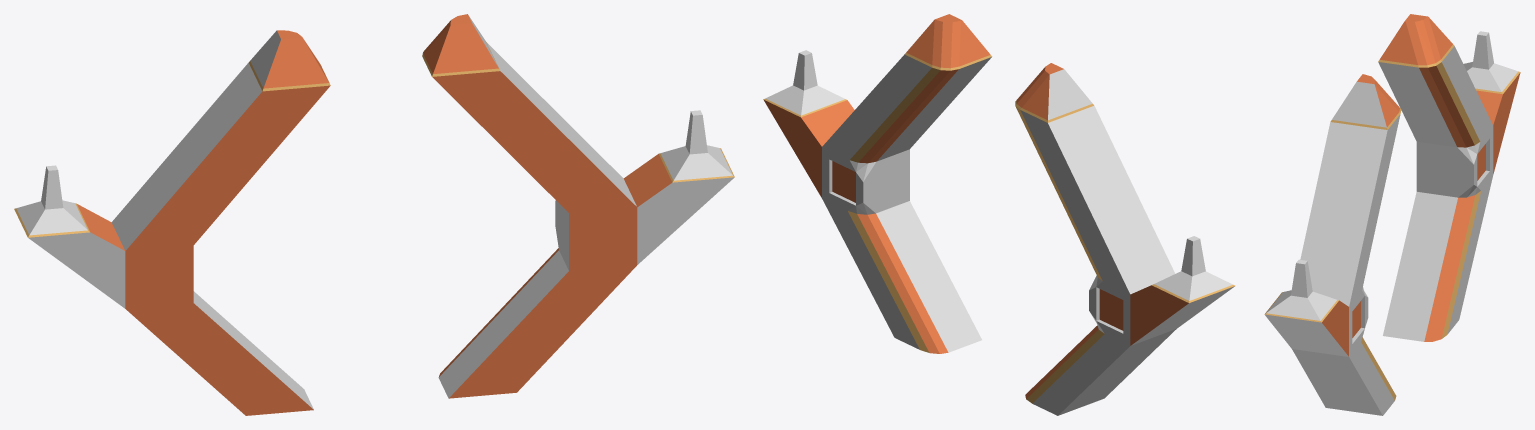
Rendered from Arkus.fbx.
The picture shows the model from 3 angles, left to right: view 1: azimuth 30°, elevation 25°; view 2: azimuth 150°, elevation 25°; view 3: azimuth 270°, elevation 25°; orthographic projection. The views are drawn at different scales.
Parts seen in each view (by area): view 1: arkomikra.008; view 2: arkomikra.008; view 3: arkomikra.008.
Boxes of the visible parts, left/top/right/bottom form: arkomikra.008: left=14, top=14, right=734, bottom=415; arkomikra.008: left=763, top=14, right=1235, bottom=415; arkomikra.008: left=1264, top=14, right=1520, bottom=415.
Size of the model in its own units: 576 by 327 by 241.
